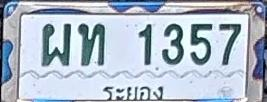1: (138, 23, 152, 65)
3: (162, 23, 184, 65)
5: (190, 23, 212, 65)
7: (219, 23, 241, 65)
A23: (78, 23, 105, 66)
A28: (41, 22, 71, 66)
RYG: (99, 81, 167, 101)
